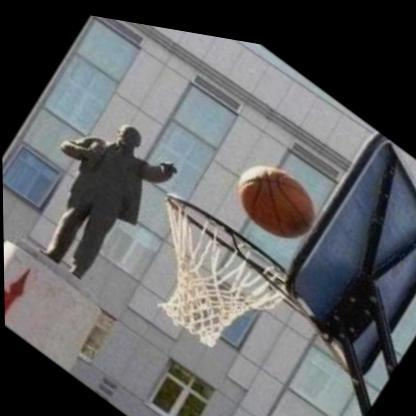basketball: (215, 128, 333, 255)
rim: (114, 168, 295, 370)
